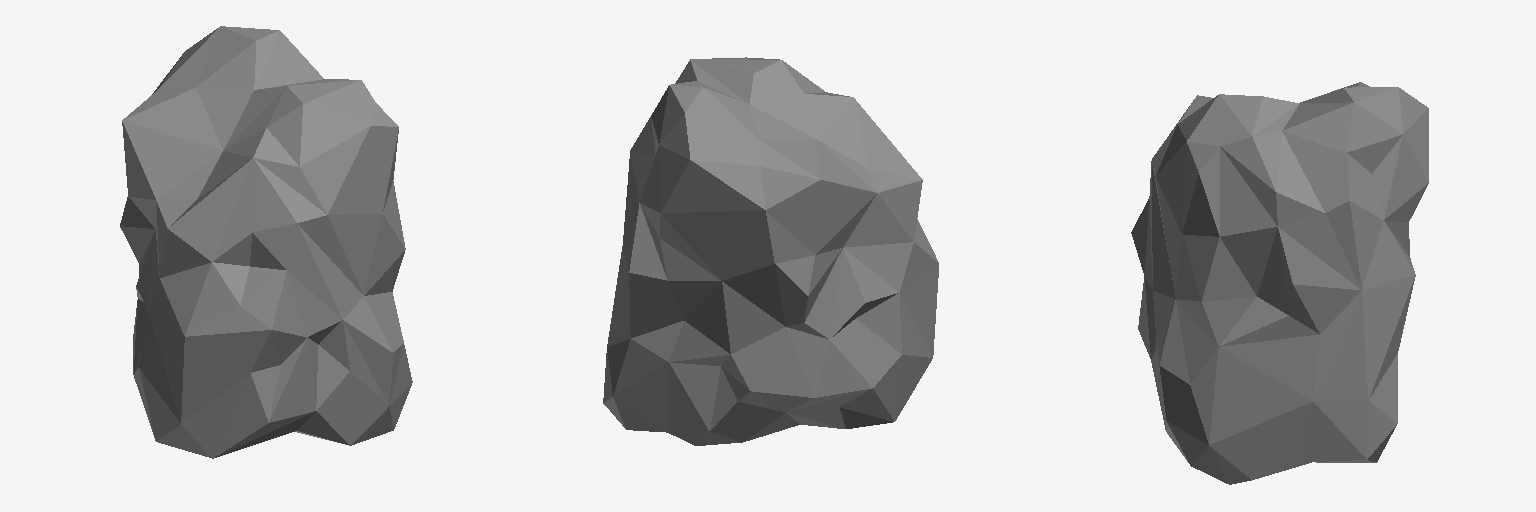
The model's file is Asteroid_11.obj.
3 views of the same model, side by side, from view 1: azimuth 30°, elevation 25°; view 2: azimuth 150°, elevation 25°; view 3: azimuth 270°, elevation 25° (orthographic).
Parts seen in each view (by area): view 1: Asteroid_11; view 2: Asteroid_11; view 3: Asteroid_11.
Part boxes in pixels (x1,y1,x2,y2): Asteroid_11: (120,26,412,458); Asteroid_11: (603,57,938,445); Asteroid_11: (1131,82,1428,484).
Size of the model in its own units: 53.59 by 75.09 by 55.01.